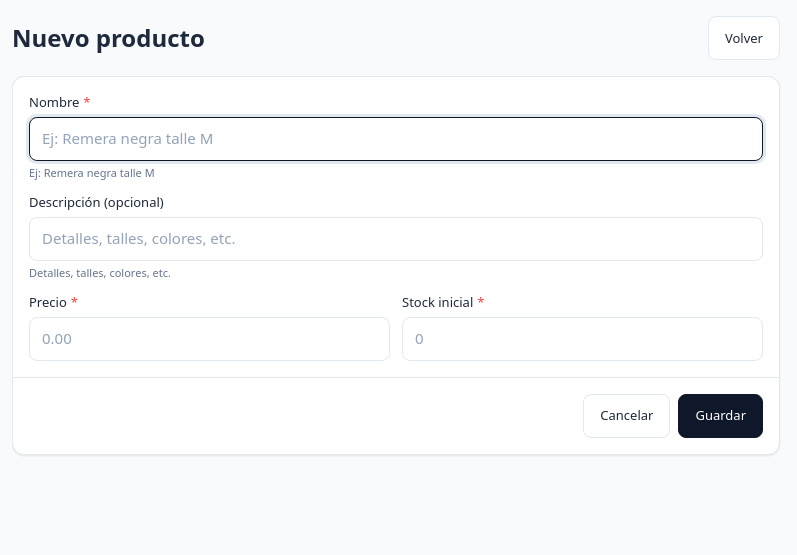
Test: InventoryForm › New Mode › shows validation error when quantity is not integer
Type "Test" into the field labelled "Nombre *". click: (396, 138)
box: top-left (29, 116), bottom-right (763, 160)
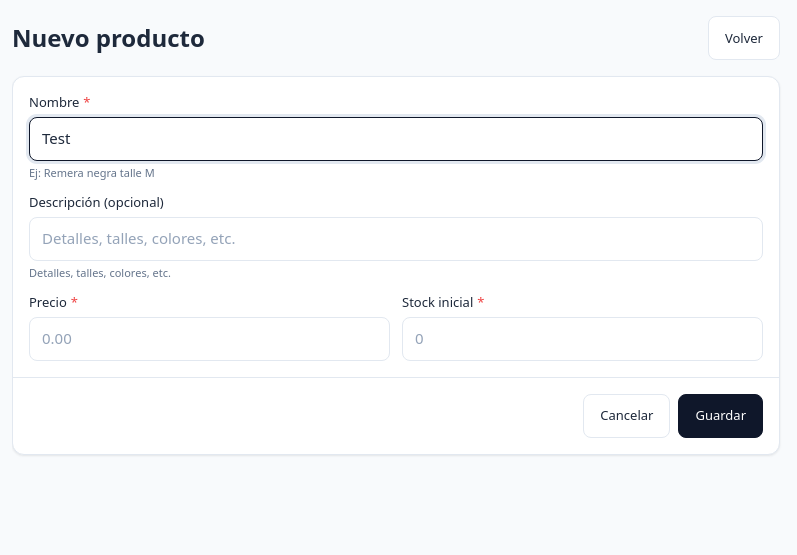
Type "100" into the number field labelled "Precio *". click: (210, 338)
box: top-left (29, 316), bottom-right (390, 360)
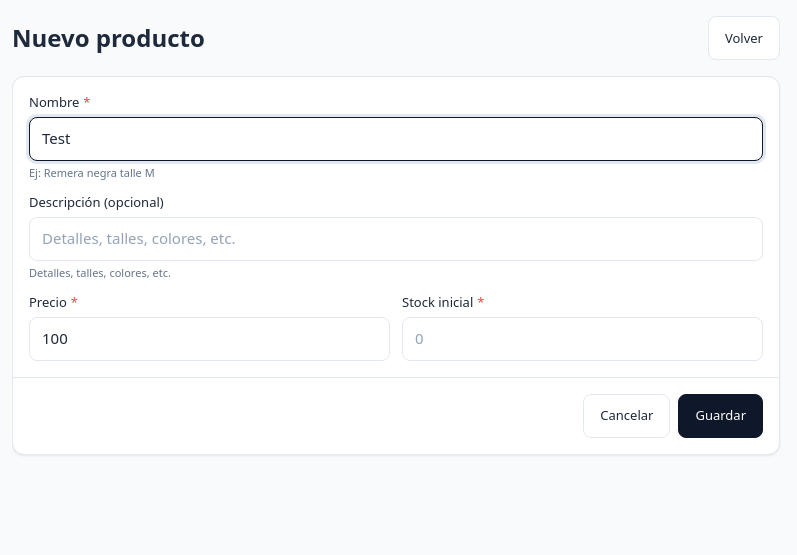
Type "10.5" into the number field labelled "Stock inicial *". click: (582, 338)
box: top-left (402, 316), bottom-right (763, 360)
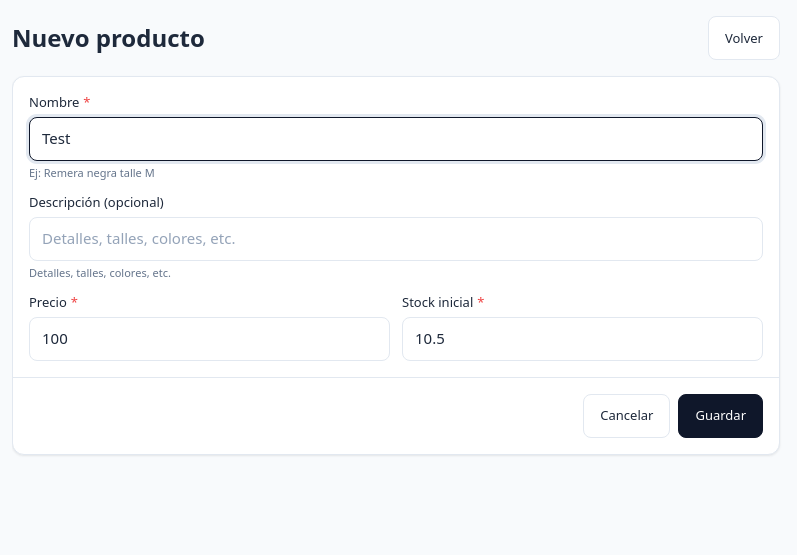
Click the button "Guardar". click: (721, 416)
box: top-left (678, 394), bottom-right (763, 438)
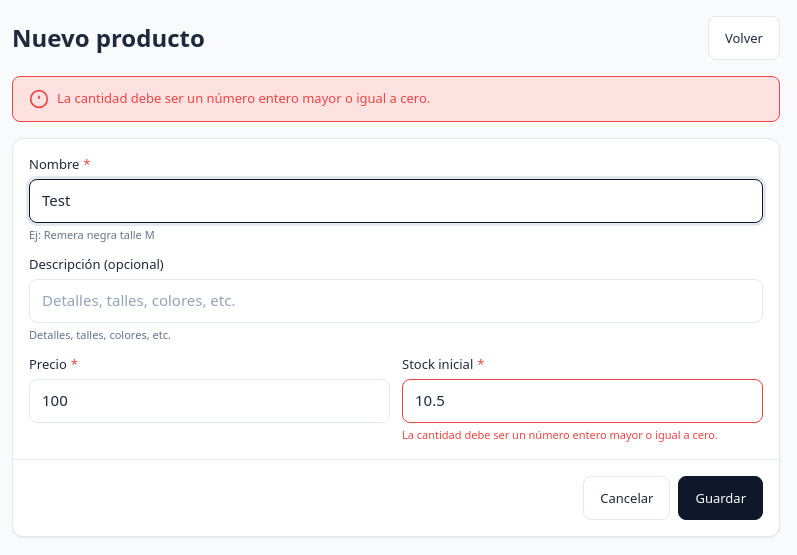
Result: the text "La cantidad debe ser un número entero mayor o igual a cero." is shown at top-left (57, 89), bottom-right (430, 108)
